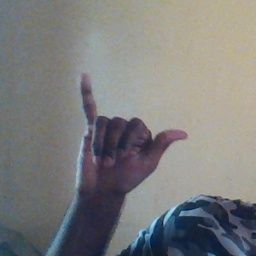J: (71, 70, 192, 197)
